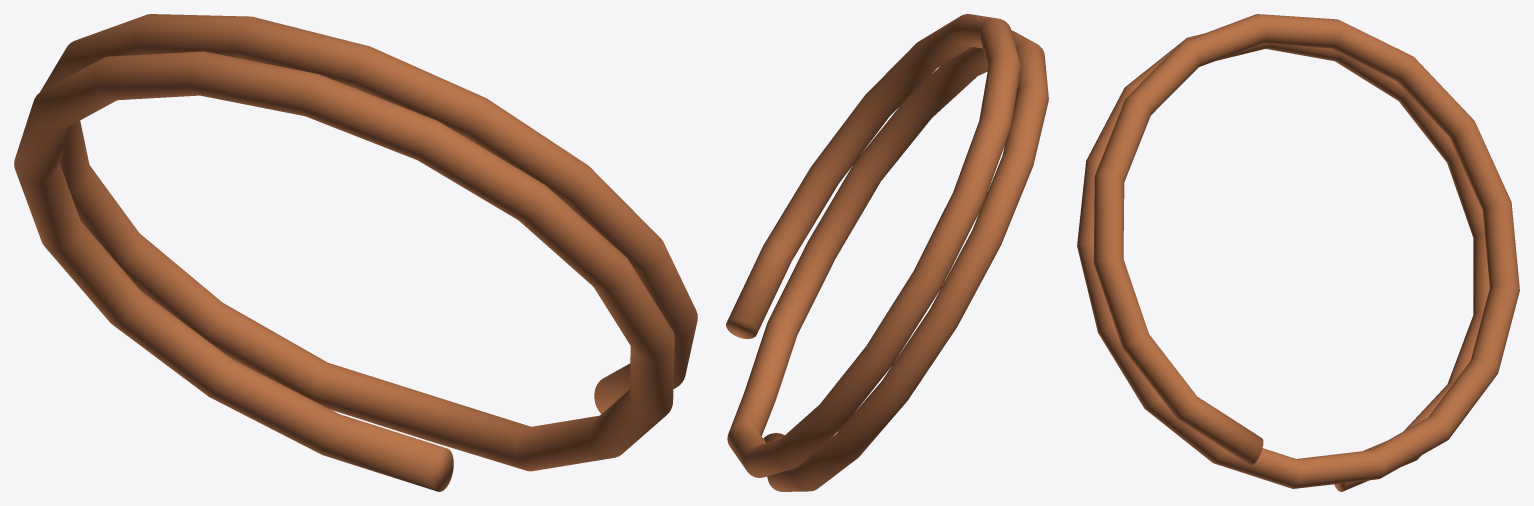
3 renders of one model, left to right at view 1: azimuth 30°, elevation 25°; view 2: azimuth 150°, elevation 25°; view 3: azimuth 270°, elevation 25°, orthographic. The views are drawn at different scales.
Parts seen in each view (by area): view 1: Keyring 2.010; view 2: Keyring 2.010; view 3: Keyring 2.010.
Boxes of the visible parts, box(x1,y1,x2,y2) form: Keyring 2.010: box(14, 14, 697, 491); Keyring 2.010: box(726, 14, 1048, 491); Keyring 2.010: box(1077, 14, 1519, 491).
Size of the model in its own units: 0.8103 by 0.9181 by 0.9412.
